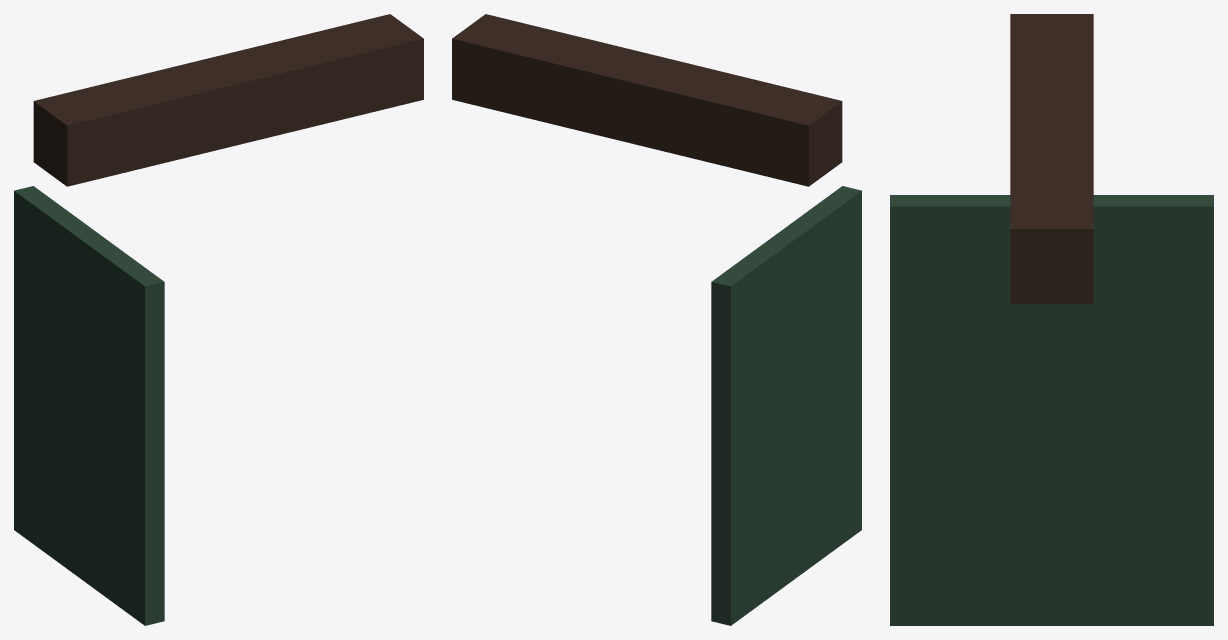
The model's file is hoist.obj.
The picture shows the model from 3 angles, left to right: view 1: azimuth 30°, elevation 25°; view 2: azimuth 150°, elevation 25°; view 3: azimuth 270°, elevation 25°; orthographic projection. The views are drawn at different scales.
Visible parts, largest first — view 1: part2.nocast, part1; view 2: part2.nocast, part1; view 3: part2.nocast, part1.
Boxes of the visible parts, x1,y1,x2,y2 form: part2.nocast: (14, 186, 164, 625); part1: (33, 14, 423, 186); part2.nocast: (711, 186, 861, 625); part1: (452, 14, 842, 186); part2.nocast: (890, 195, 1213, 625); part1: (1010, 14, 1093, 304).
Bounding box in the file's own units: 1.1 × 1.39 × 0.7.
